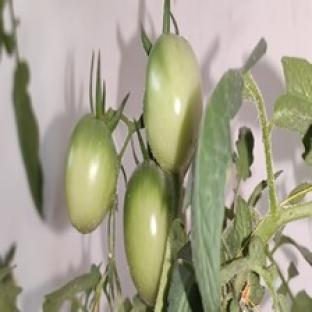Tomato: (144, 34, 203, 172), (124, 161, 174, 306), (66, 115, 118, 233)
